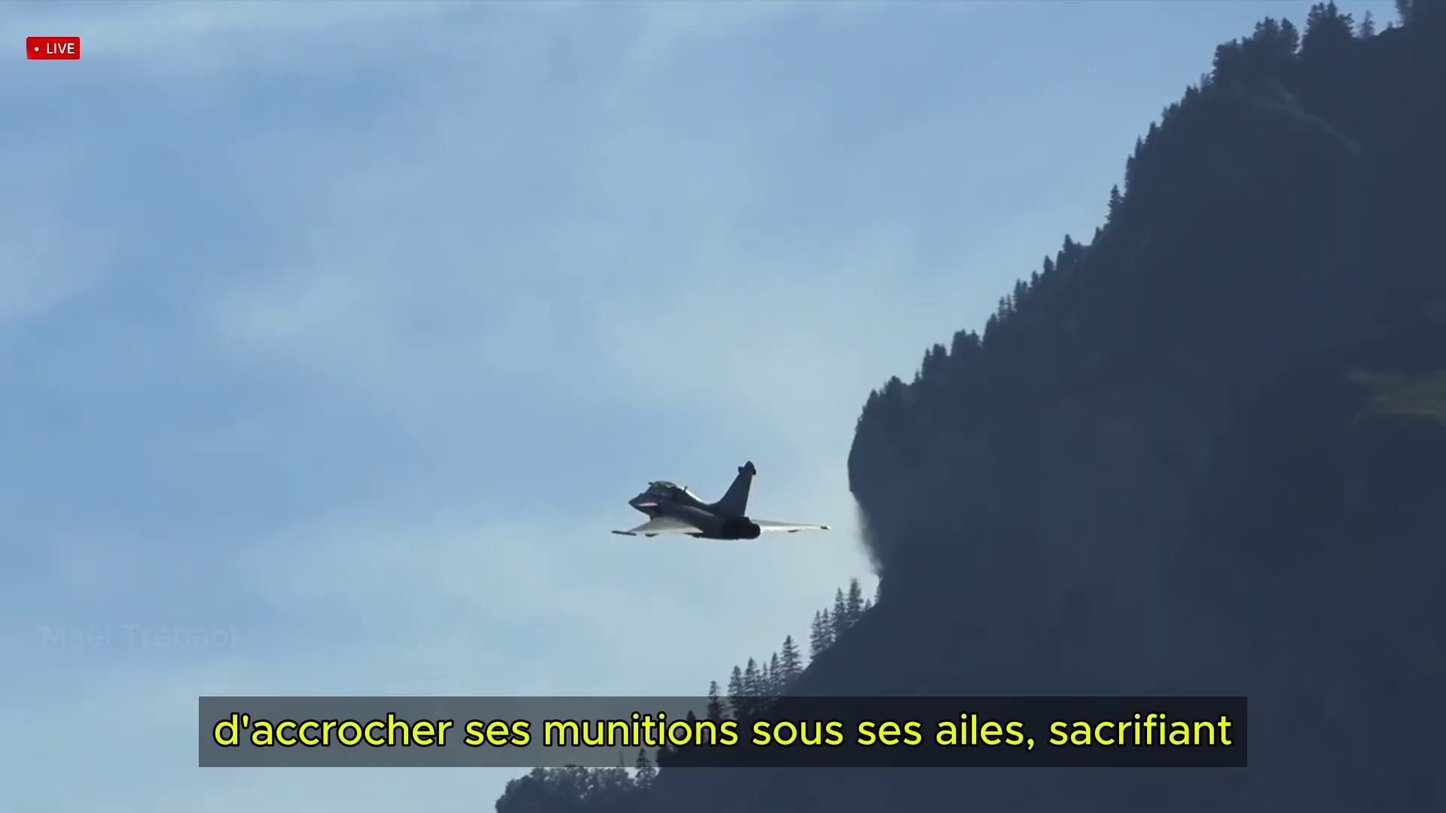Rafale: (612, 460, 831, 542)
